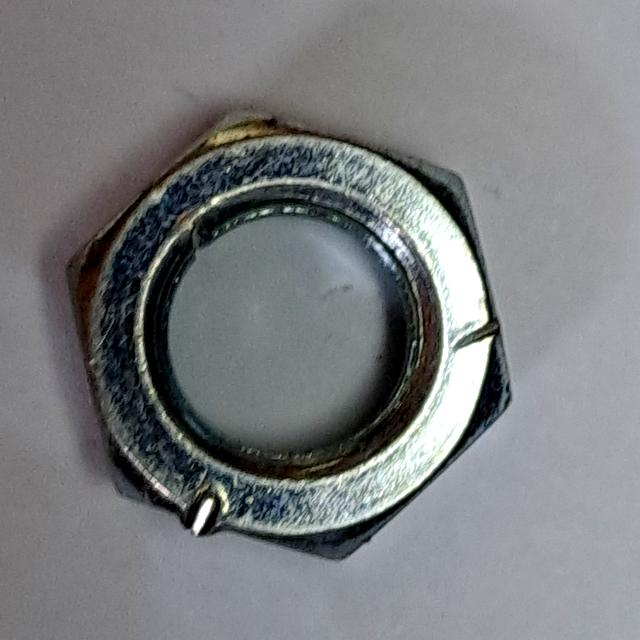Scratches: (38, 96, 525, 579)
